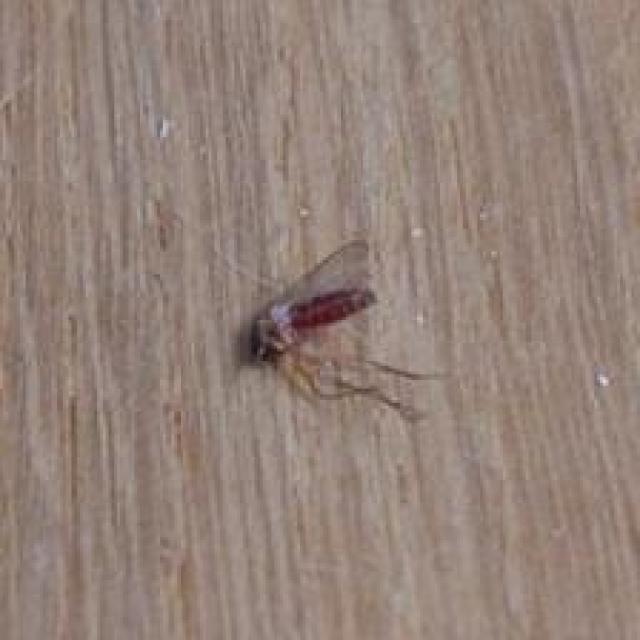Culex: (245, 237, 446, 426)
